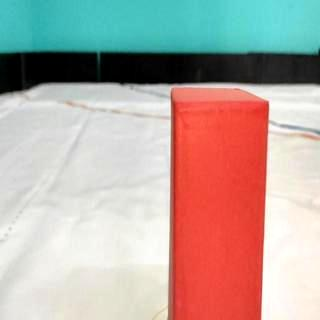redbox: (173, 90, 262, 320)
